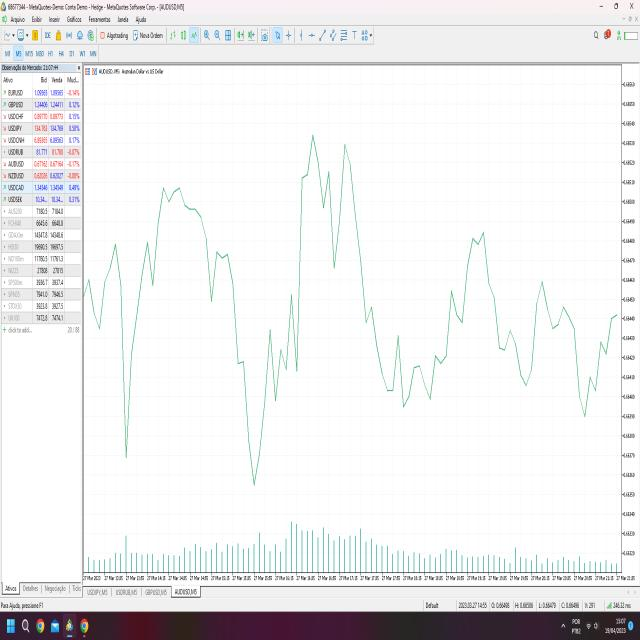oco: (443, 211, 522, 406)
topo_duplo: (292, 98, 368, 346)
